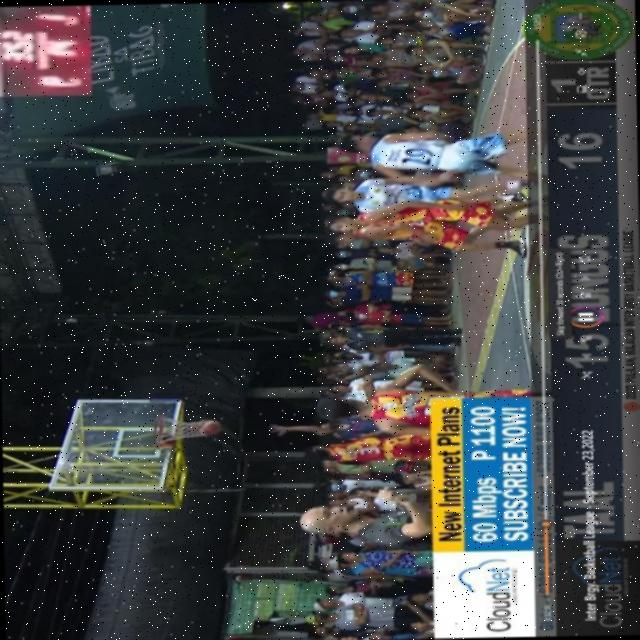ball: (192, 417, 226, 438)
hoop: (151, 408, 164, 450)
